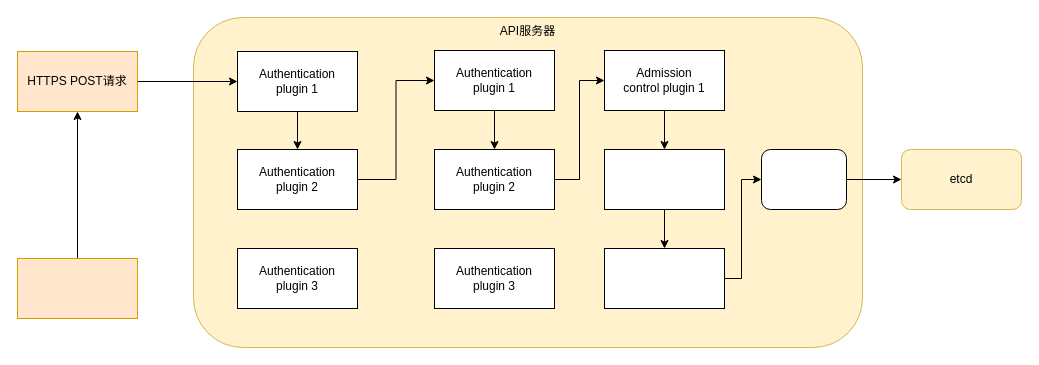
Some shapes in this 1039 by 365 pixel diagram are drawn without their labels. The shapes that lost their labels are listed below. From the top down, each one's centre as x and y in pixels, then its label:
At pixel 664 179: "Admission control plugin 2".
At pixel 803 179: "资源验证".
At pixel 77 288: "kubectl客户端".
At pixel 664 278: "Admission control plugin 3".
